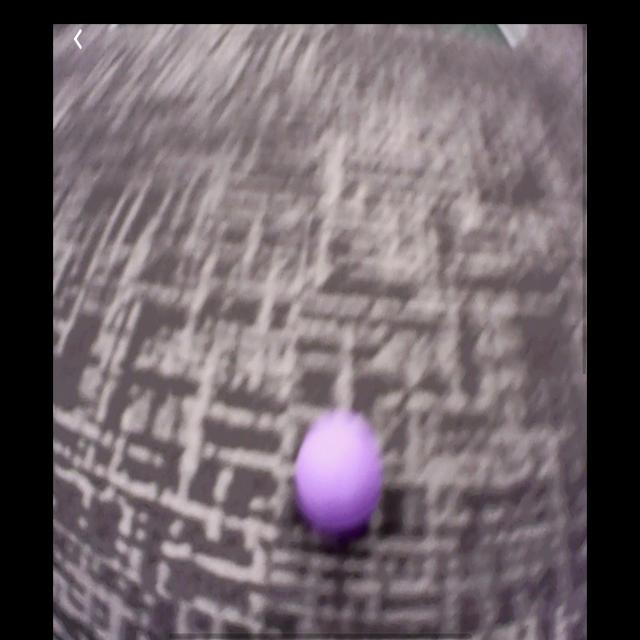ball: (296, 410, 387, 535)
